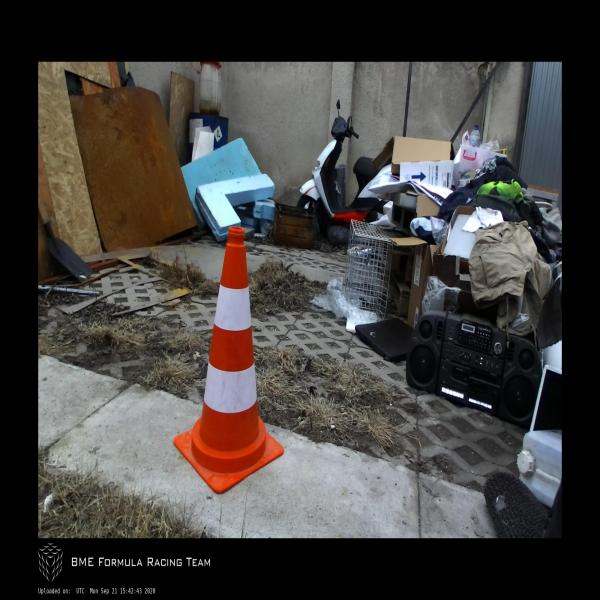large_orange_cone: (174, 227, 283, 494)
